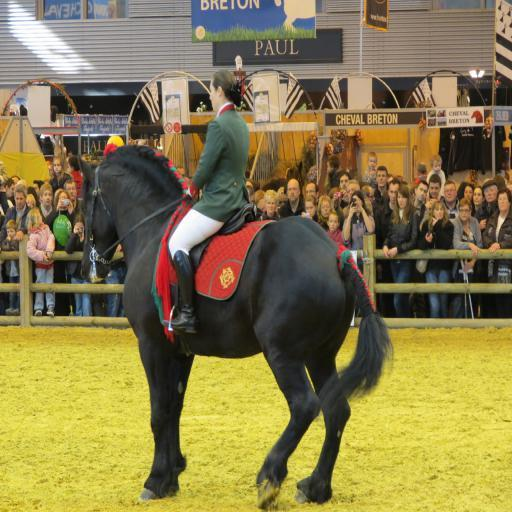horse: (78, 150, 394, 512)
